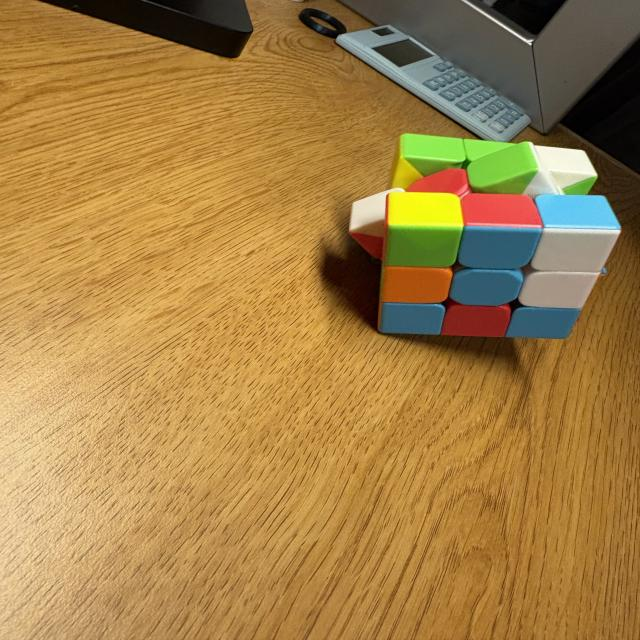Rubiks Cube: (349, 132, 618, 338)
